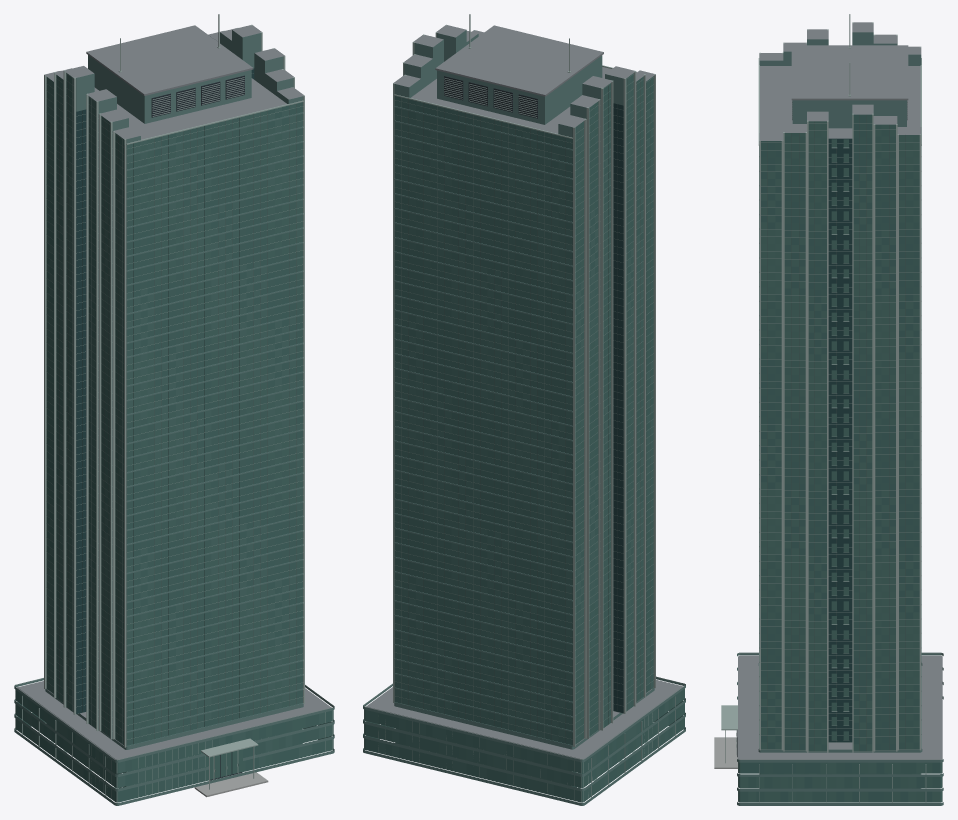
Rendered from emerald-r2-draco.glb.
The picture shows the model from 3 angles, left to right: view 1: azimuth 30°, elevation 25°; view 2: azimuth 150°, elevation 25°; view 3: azimuth 270°, elevation 25°; orthographic projection.
Parts seen in each view (by area): view 1: Emerald refined glass1, Emerald refined glass0, Emerald refined glass2, Emerald refined glass3, Emerald refined frame, Emerald refined stone, Emerald refined joint, Emerald refined roof, Emerald refined shadow glass, Emerald refined fin edge, Emerald stone, Emerald roof (+7 smaller); view 2: Emerald refined glass3, Emerald refined glass2, Emerald refined glass0, Emerald refined glass1, Emerald refined frame, Emerald refined stone, Emerald refined joint, Emerald refined roof, Emerald refined fin edge, Emerald refined shadow glass, Emerald stone, Emerald roof (+6 smaller); view 3: Emerald refined glass1, Emerald refined frame, Emerald refined glass0, Emerald refined glass3, Emerald refined glass2, Emerald refined roof, Emerald refined fin edge, Emerald refined shadow glass, Emerald roof, Emerald refined joint, Emerald refined stone, Emerald stone (+6 smaller).
Boxes of the visible parts, left/top/right/bottom form: Emerald refined glass1: left=46, top=77, right=302, bottom=779; Emerald refined glass0: left=46, top=73, right=302, bottom=745; Emerald refined glass2: left=46, top=79, right=302, bottom=744; Emerald refined glass3: left=46, top=73, right=302, bottom=743; Emerald refined frame: left=22, top=14, right=304, bottom=795; Emerald refined stone: left=76, top=30, right=303, bottom=746; Emerald refined joint: left=59, top=33, right=303, bottom=746; Emerald refined roof: left=45, top=25, right=303, bottom=139; Emerald refined shadow glass: left=76, top=68, right=254, bottom=738; Emerald refined fin edge: left=44, top=71, right=124, bottom=747; Emerald stone: left=14, top=678, right=334, bottom=805; Emerald roof: left=16, top=681, right=331, bottom=760; Emerald refined glass3: left=394, top=76, right=653, bottom=745; Emerald refined glass2: left=394, top=73, right=653, bottom=741; Emerald refined glass0: left=394, top=77, right=653, bottom=744; Emerald refined glass1: left=394, top=74, right=653, bottom=743; Emerald refined frame: left=393, top=14, right=675, bottom=797; Emerald refined stone: left=394, top=30, right=623, bottom=746; Emerald refined joint: left=401, top=33, right=650, bottom=745; Emerald refined roof: left=394, top=25, right=655, bottom=133; Emerald refined fin edge: left=574, top=71, right=655, bottom=746; Emerald refined shadow glass: left=600, top=100, right=623, bottom=729; Emerald stone: left=363, top=676, right=685, bottom=805; Emerald roof: left=365, top=680, right=683, bottom=759; Emerald refined glass1: left=761, top=121, right=919, bottom=751; Emerald refined frame: left=725, top=14, right=926, bottom=802; Emerald refined glass0: left=761, top=114, right=919, bottom=751; Emerald refined glass3: left=761, top=114, right=919, bottom=751; Emerald refined glass2: left=761, top=121, right=919, bottom=751; Emerald refined roof: left=759, top=22, right=921, bottom=140; Emerald refined fin edge: left=759, top=52, right=920, bottom=752; Emerald refined shadow glass: left=828, top=138, right=852, bottom=742; Emerald roof: left=738, top=655, right=942, bottom=759; Emerald refined joint: left=767, top=115, right=905, bottom=750; Emerald refined stone: left=759, top=32, right=921, bottom=748; Emerald stone: left=737, top=652, right=943, bottom=805.
Bounding box in the file's own units: 53.42 × 166 × 48.21.
